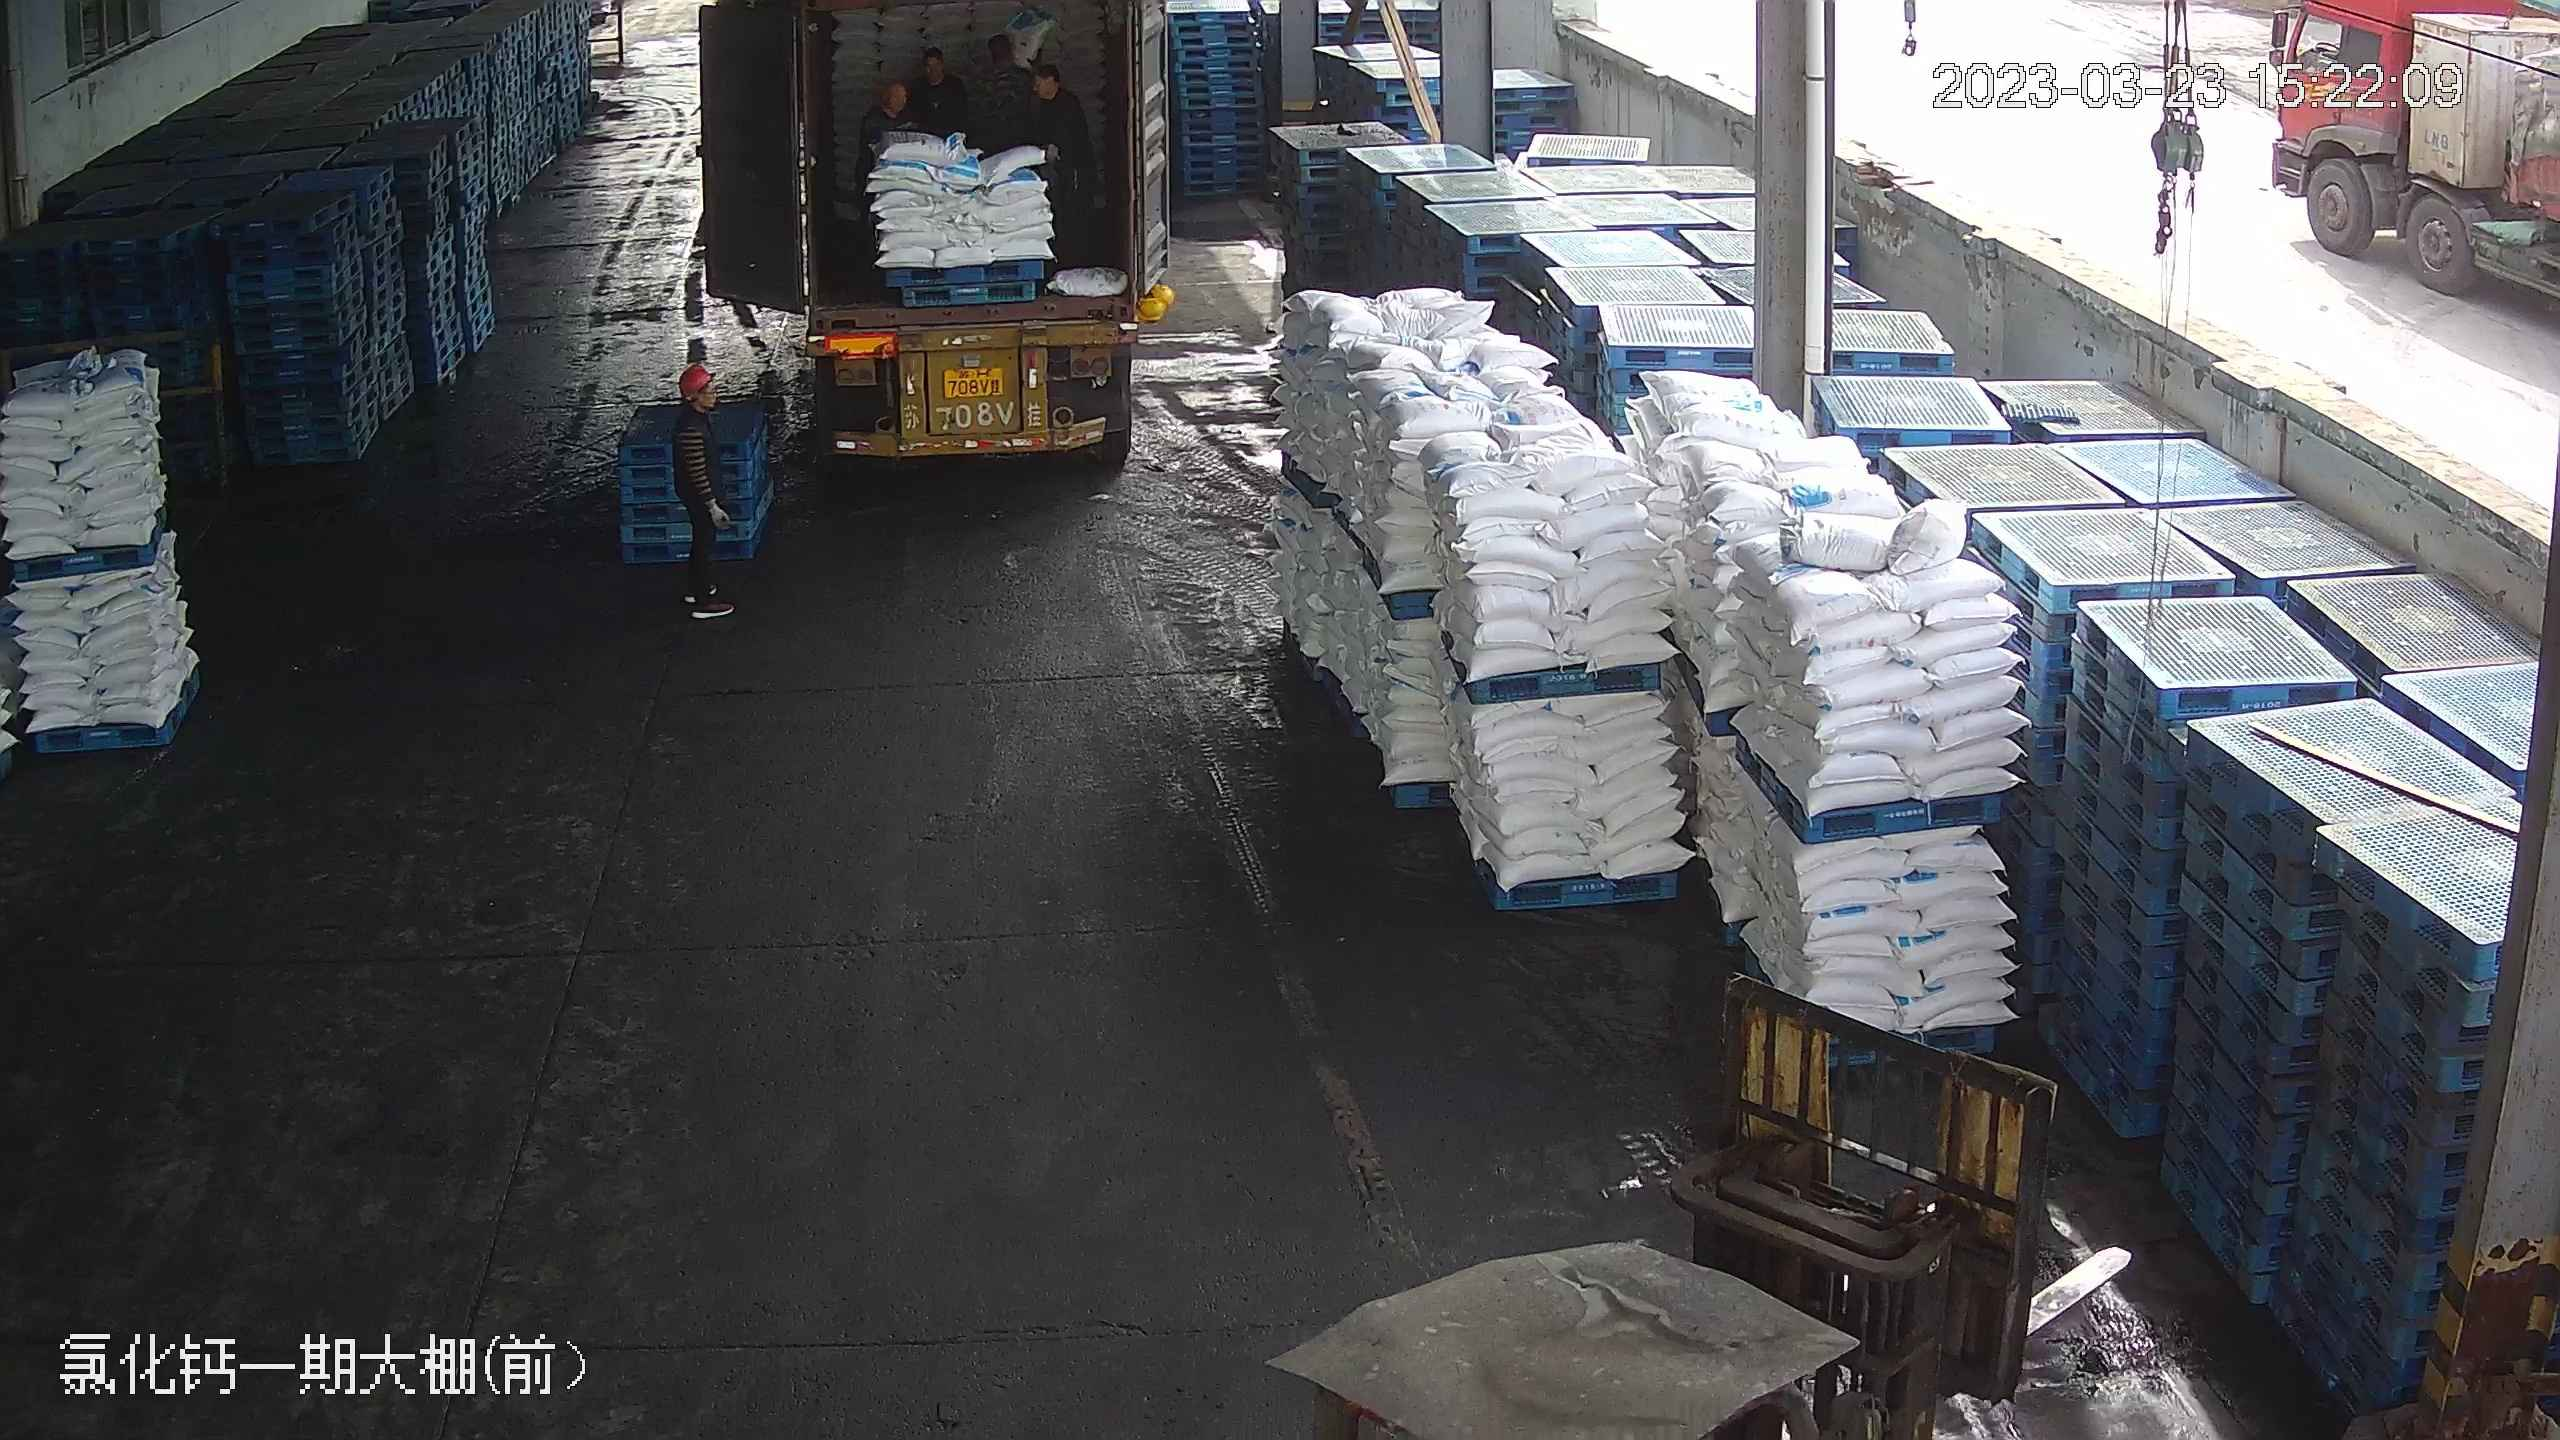head: (668, 360, 729, 447), (1026, 61, 1089, 142), (974, 30, 1030, 112), (863, 75, 913, 134), (915, 49, 967, 100)
helmet: (1136, 279, 1176, 320), (680, 352, 717, 387)
people: (667, 358, 746, 621)
truck: (706, 1, 1177, 470), (2271, 1, 2560, 328)
